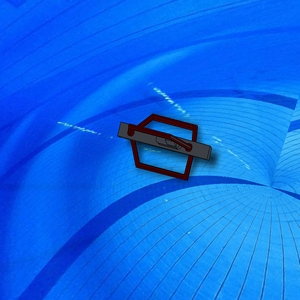submarine: (108, 103, 226, 191)
